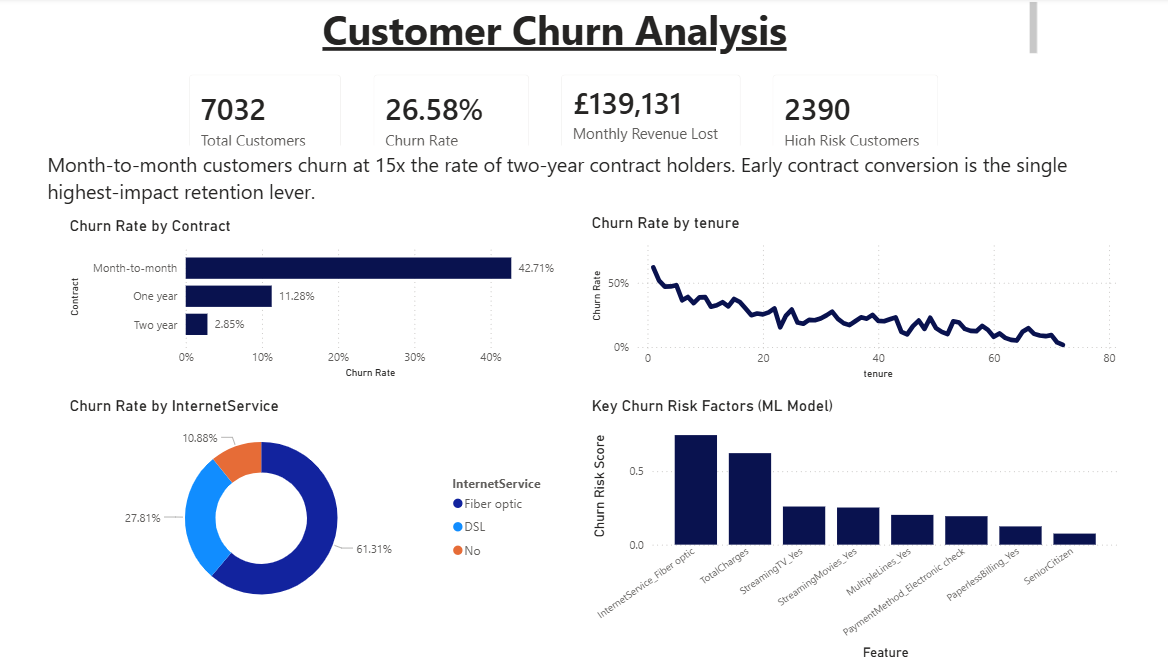

The dashboard page shown, as its layout file describes it:
{"tool":"powerbi","page":{"name":"Churn Overview","canvas":[1280,720],"ordinal":0},"visuals":[{"type":"cardVisual","fields":{"Data":["feature_importance.Total Customers"]},"box":[194.6,66.1,198.4,128.5],"z":0},{"type":"cardVisual","fields":{"Data":["feature_importance.Churn Rate"]},"box":[393.1,66.1,202.2,128.5],"z":1},{"type":"cardVisual","fields":{"Data":["feature_importance.Monthly Revenue Lost"]},"box":[595.3,66.1,228.7,115.3],"z":2},{"type":"cardVisual","fields":{"Data":["feature_importance.High Risk Customers"]},"box":[823.9,66.1,213.5,128.5],"z":3},{"type":"clusteredBarChart","fields":{"Category":["telco_churn_with_predictions.Contract"],"Y":["feature_importance.Churn Rate"]},"box":[77.5,236.2,546.1,179.5],"z":4},{"type":"lineChart","fields":{"Y":["feature_importance.Churn Rate"],"Category":["telco_churn_with_predictions.tenure"]},"box":[640.6,232.4,578.3,183.3],"z":5},{"type":"donutChart","fields":{"Category":["telco_churn_with_predictions.InternetService"],"Y":["feature_importance.Churn Rate"]},"box":[77.5,430.9,532.9,243.8],"z":6},{"type":"clusteredColumnChart","title":"Key Churn Risk Factors (ML Model)","fields":{"Category":["feature_importance.Feature"],"Y":["Sum(feature_importance.Coefficient)"]},"box":[640.6,430.9,578.3,289.1],"z":7},{"type":"textbox","box":[52.9,160,1177.3,75.6],"z":8},{"type":"textbox","box":[88.8,0,1043.2,66.1],"z":9}]}

Visuals, with their boxes in screenshot pixels (x1, y1, x2, y2), scaled from the page's 1280x720 canvas onto the 1168x663 screenshot:
cardVisual - feature_importance.Total Customers: (x1=178, y1=61, x2=359, y2=179)
cardVisual - feature_importance.Churn Rate: (x1=359, y1=61, x2=543, y2=179)
cardVisual - feature_importance.Monthly Revenue Lost: (x1=543, y1=61, x2=752, y2=167)
cardVisual - feature_importance.High Risk Customers: (x1=752, y1=61, x2=947, y2=179)
clusteredBarChart - telco_churn_with_predictions.Contract x feature_importance.Churn Rate: (x1=71, y1=218, x2=569, y2=383)
lineChart - feature_importance.Churn Rate x telco_churn_with_predictions.tenure: (x1=585, y1=214, x2=1112, y2=383)
donutChart - telco_churn_with_predictions.InternetService x feature_importance.Churn Rate: (x1=71, y1=397, x2=557, y2=621)
"Key Churn Risk Factors (ML Model)" clusteredColumnChart: (x1=585, y1=397, x2=1112, y2=662)
textbox: (x1=48, y1=147, x2=1123, y2=217)
textbox: (x1=81, y1=0, x2=1033, y2=61)
